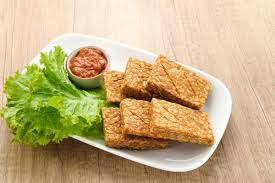Tempe goreng: (147, 53, 213, 109), (147, 98, 215, 146), (121, 94, 152, 139), (124, 57, 150, 96), (102, 108, 127, 148), (105, 70, 125, 103)
